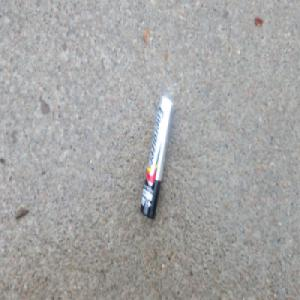Battery: (138, 93, 173, 218)
